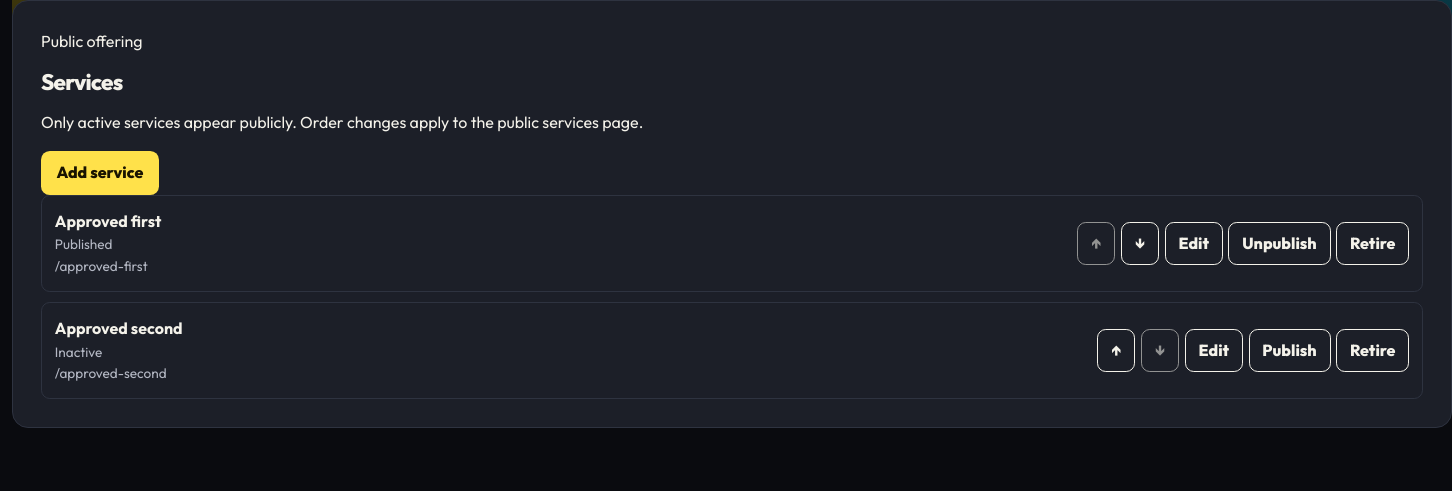
Scenario: reorders and toggles lifecycle through explicit controls
The image size is (1452, 491).
Expected: the text "Approved first" is shown, [55, 211, 161, 231]
Click the button named "Move Approved second up". click: (1116, 350)
box: [1097, 329, 1135, 372]
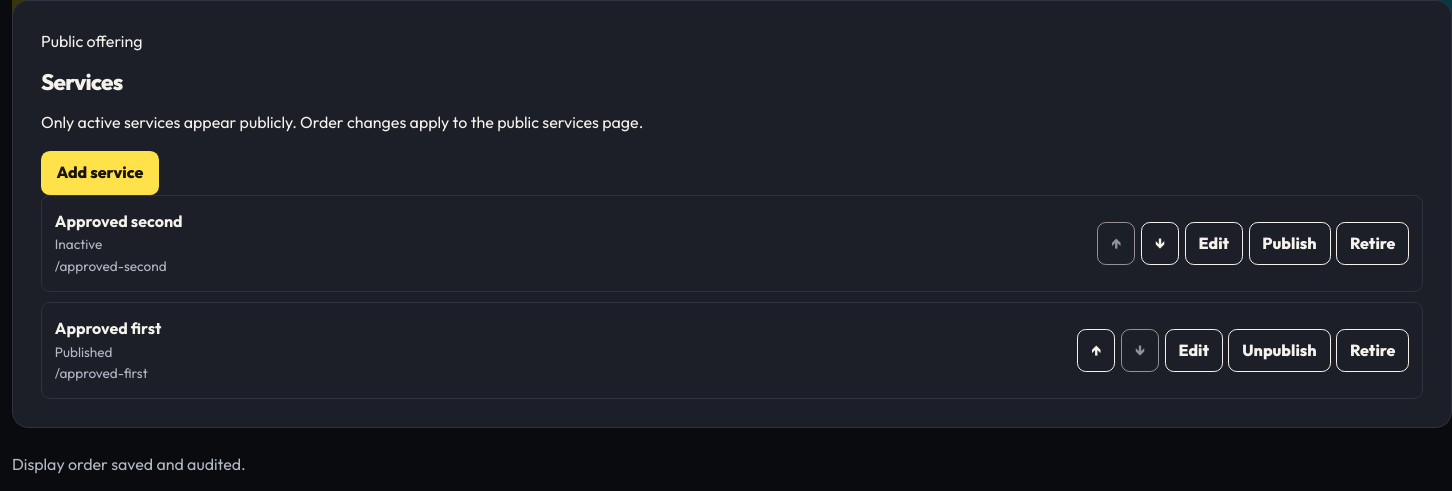
Now the text "Display order saved and audited." is shown, box [12, 454, 246, 474]
Click the button "Publish". click: (1290, 243)
box: [1248, 222, 1330, 265]
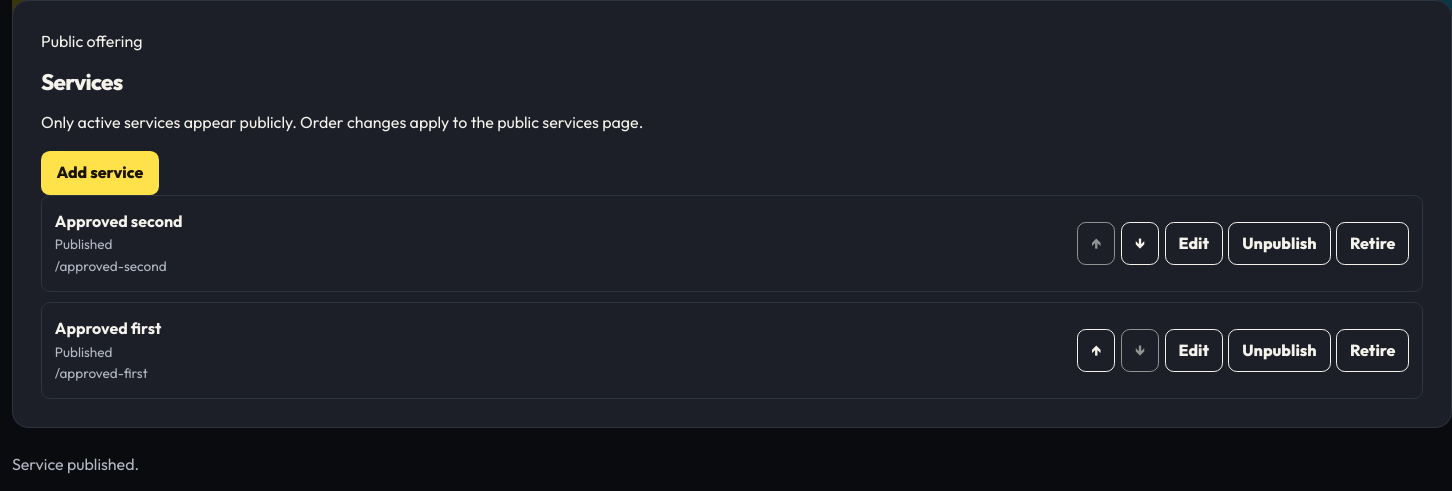
Now the text "Service published." is shown, box [12, 454, 139, 474]
